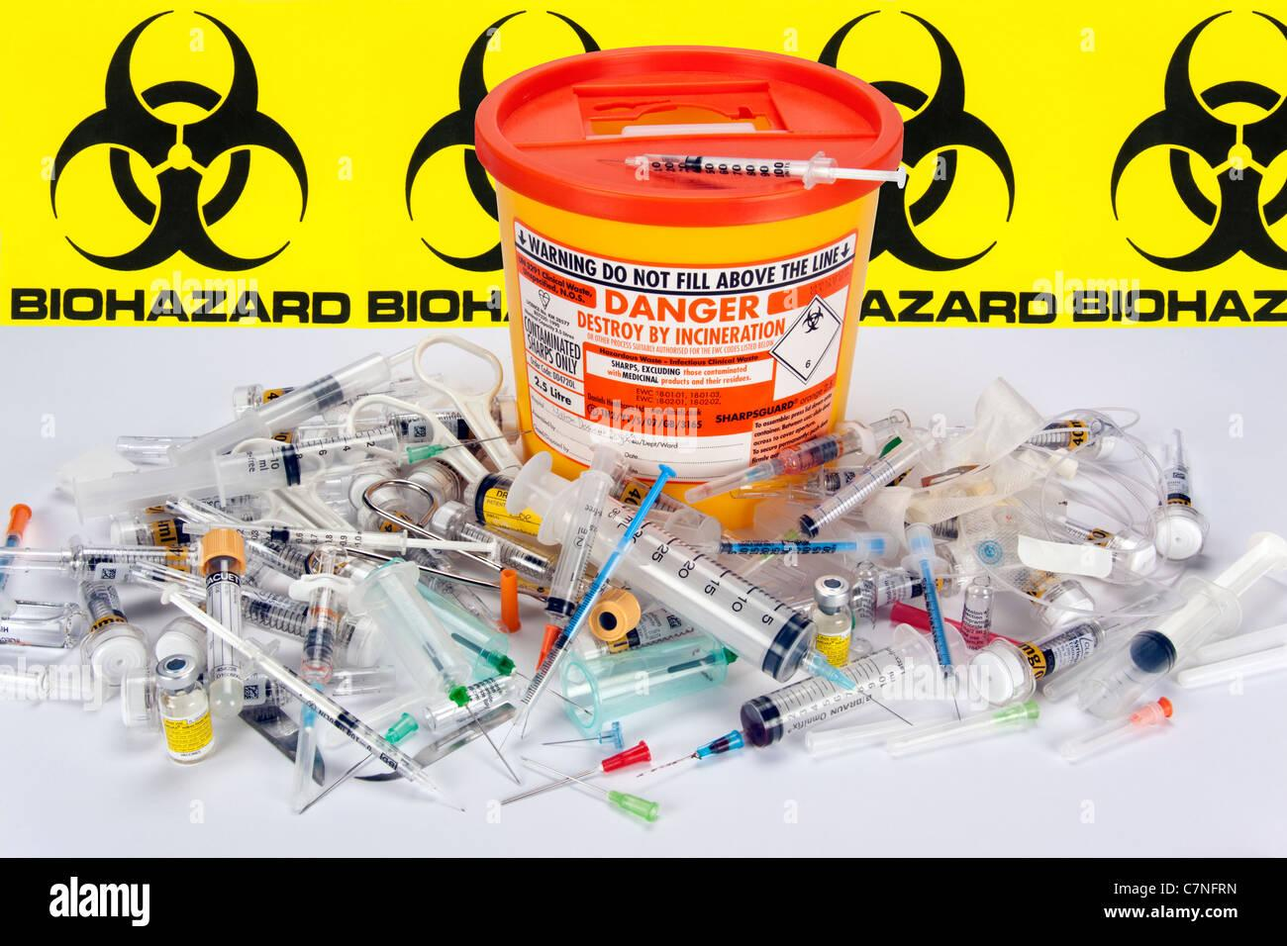Iv_Bottle: (155, 654, 213, 763), (814, 575, 852, 666), (960, 577, 993, 649)
Syringe: (162, 590, 462, 809), (507, 465, 674, 737), (591, 501, 837, 681), (1078, 532, 1286, 718), (73, 427, 396, 520), (168, 351, 407, 465), (741, 624, 935, 747), (349, 559, 471, 708), (685, 422, 866, 503), (545, 444, 620, 622), (799, 437, 929, 537), (903, 522, 958, 718), (622, 151, 906, 188), (429, 502, 553, 586), (188, 522, 494, 554), (500, 740, 650, 804), (0, 535, 194, 581), (885, 701, 1039, 755), (1152, 430, 1208, 560), (1059, 698, 1172, 761), (638, 730, 743, 776), (718, 532, 894, 559), (0, 603, 85, 648), (0, 554, 15, 617)
